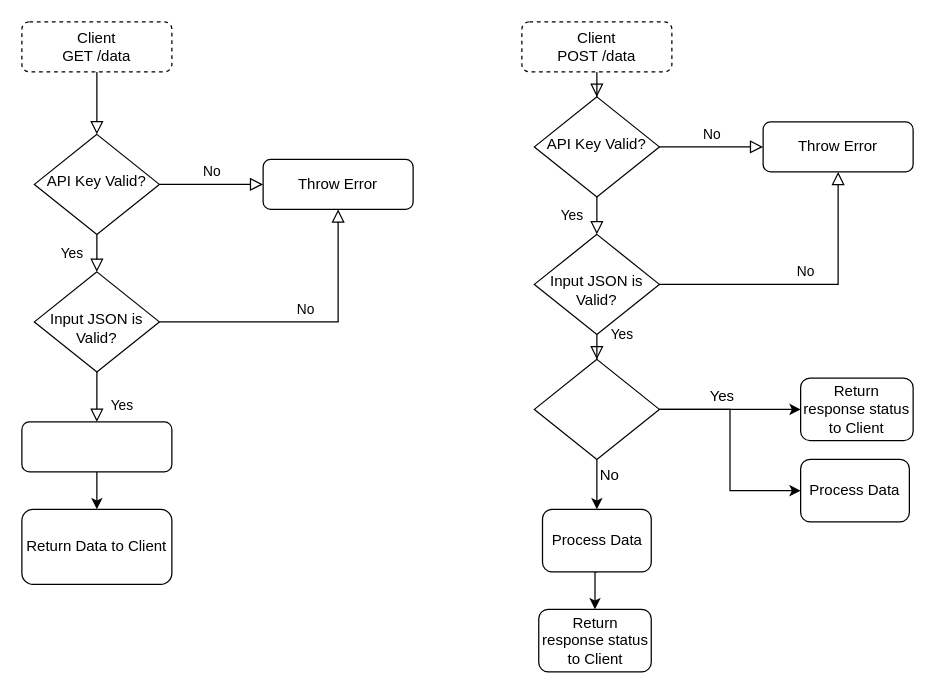
This 935x694 diagram has some shape labels left out. The centre of each missing label's shape, as x and y in pixels:
"Asyncronous processing?" belongs at point 596,408.
"Search in Database" belongs at point 96,446.
